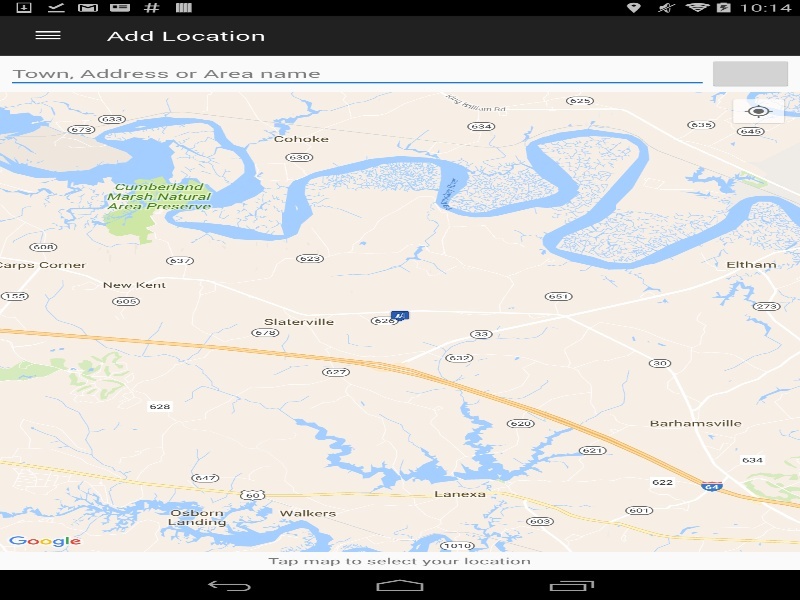Button: (10, 15, 85, 55), (708, 58, 793, 88)
Input: (6, 59, 708, 87)
